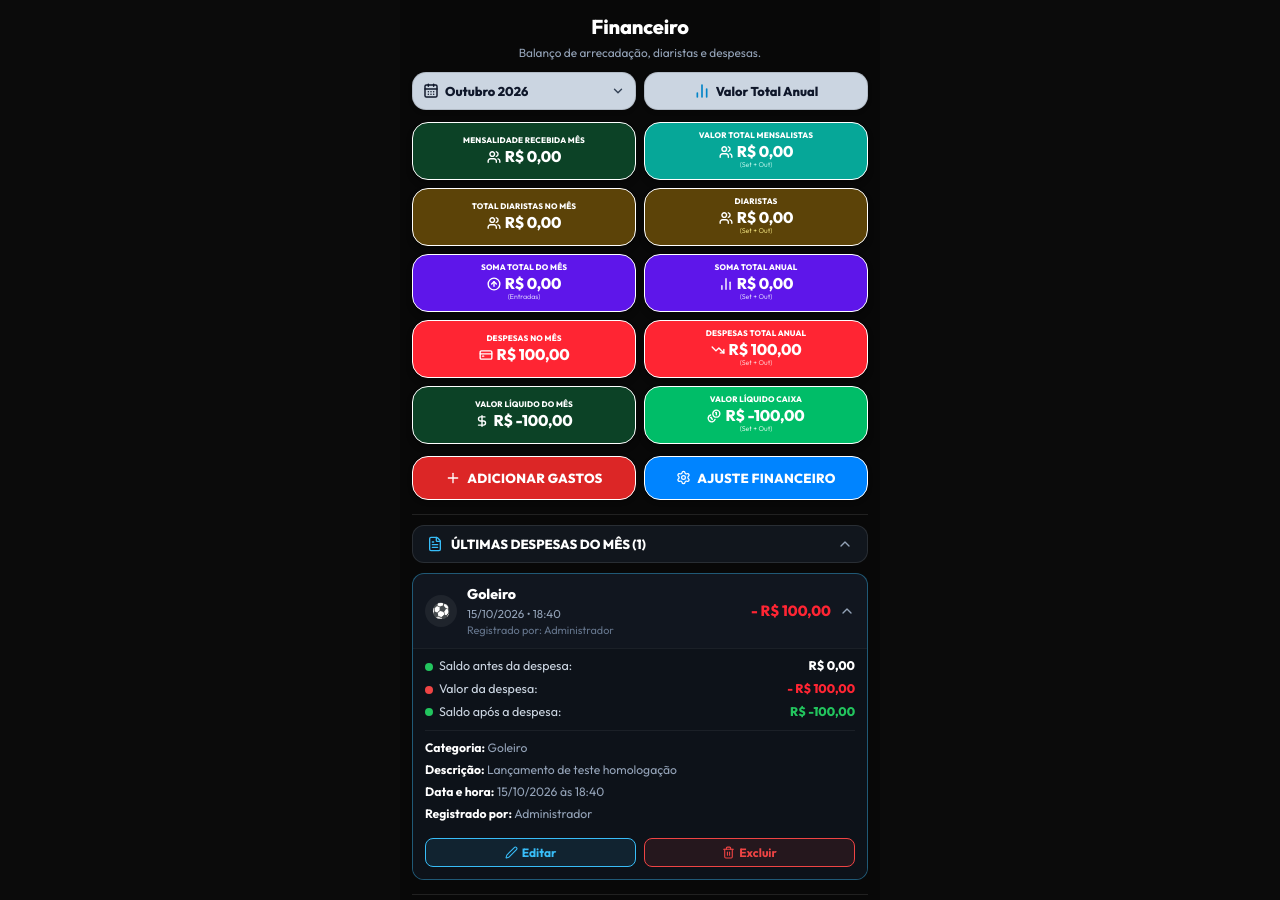
Test: Financeiro Component — RDA Reprodução Fiel do Layout Mobile › Relatório Detalhado de Gastos, Exclusão Segura e Permissões › deve abrir o modal de Exclusão Segura ao clicar em Excluir em uma despesa
Expected: the text "Descrição: Lançamento de teste homologação" is shown, [425,762,677,777]
Click the button "Excluir" at (750, 852), box [644,838,855,866]
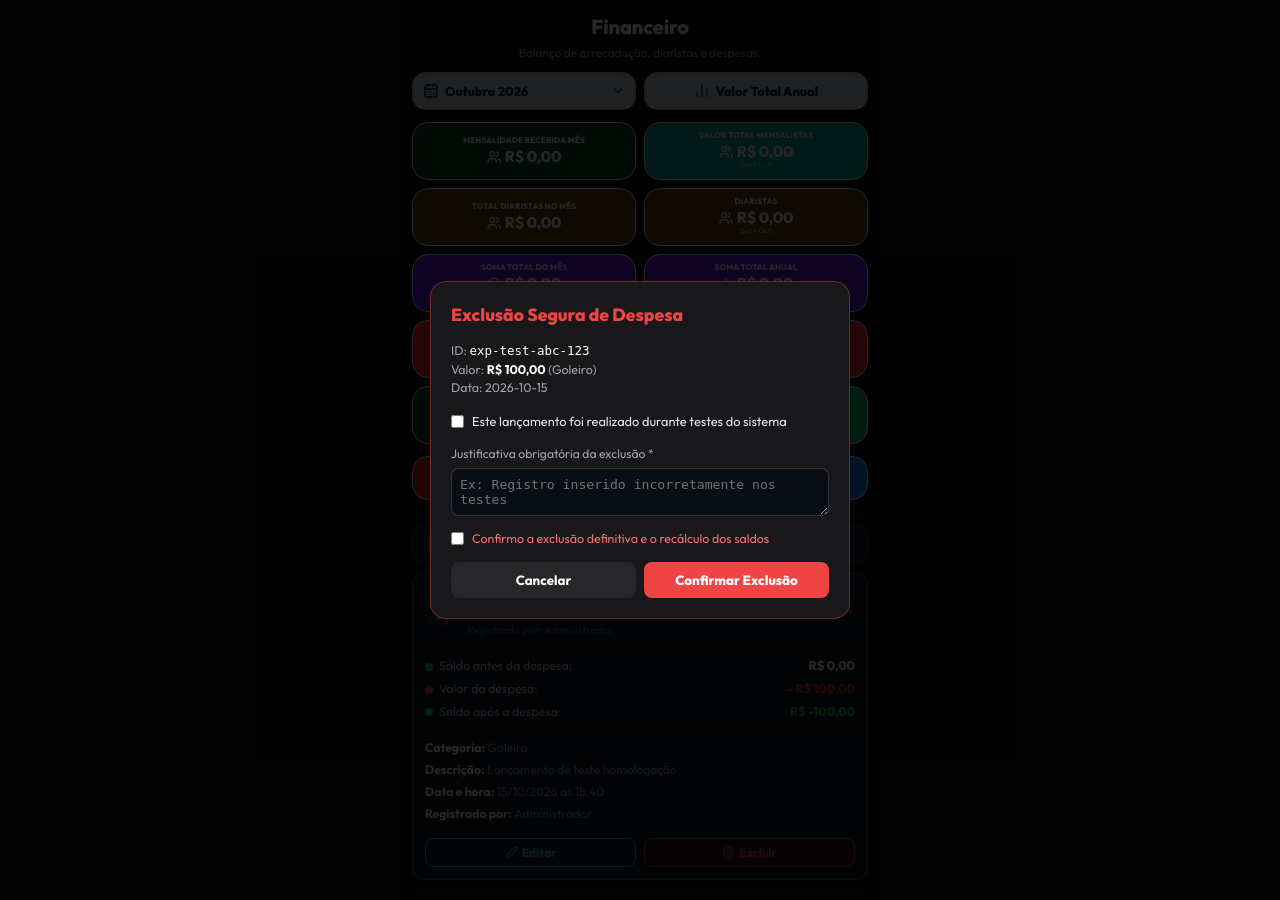
Expected: the heading "Exclusão Segura de Despesa" is shown, [451,303,683,326]
Expected: the text "exp-test-abc-123" is shown, [469,343,590,358]
Expected: the text "Este lançamento foi realizado durante testes do sistema" is shown, [472,412,787,431]
